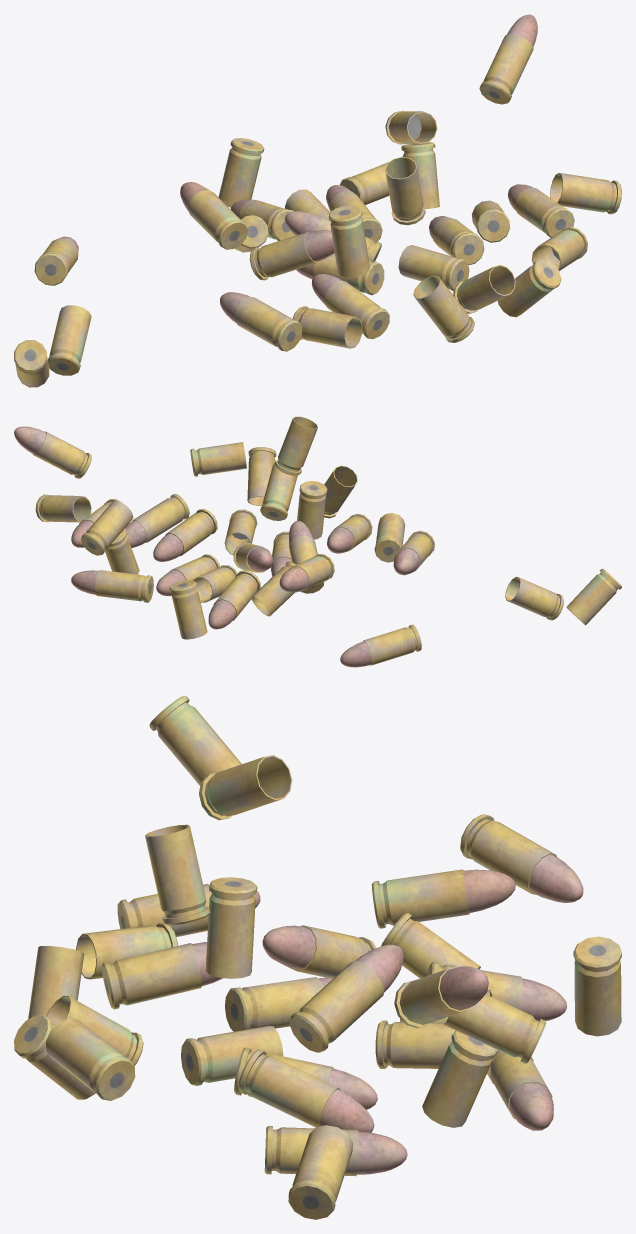
Rendered from item-pistolAmmo.glb.
3 renders of one model, top to bottom at view 1: azimuth 30°, elevation 25°; view 2: azimuth 150°, elevation 25°; view 3: azimuth 270°, elevation 25°, orthographic. The views are drawn at different scales.
Visible parts, largest first — view 1: 9mm_low.011, 9mm_low.007, 9mm_low.008, 9mm_low.000, 9mm_low.009, 9mm_spent_low.010, 9mm_spent_low.012, 9mm_spent_low.008, 9mm_spent_low.006, 9mm_spent_low.005, 9mm_spent_low.003, 9mm_spent_low.007 (+18 smaller); view 2: 9mm_low.011, 9mm_low.002, 9mm_low.003, 9mm_low.012, 9mm_low.013, 9mm_low.005, 9mm_spent_low.003, 9mm_spent_low.005, 9mm_spent_low.006, 9mm_spent_low.001, 9mm_spent_low.013, 9mm_spent_low.009 (+18 smaller); view 3: 9mm_low.000, 9mm_low.004, 9mm_low.012, 9mm_low.002, 9mm_low.009, 9mm_spent_low.010, 9mm_spent_low.003, 9mm_spent_low.005, 9mm_spent_low.013, 9mm_spent_low.012, 9mm_spent_low.015, 9mm_spent_low.006 (+17 smaller).
Part boxes in pixels (box(x1,y1,x2,y2)): 9mm_low.011: box(479, 14, 537, 104); 9mm_low.007: box(249, 230, 334, 280); 9mm_low.008: box(220, 292, 301, 351); 9mm_low.000: box(180, 182, 248, 249); 9mm_low.009: box(311, 274, 389, 339); 9mm_spent_low.010: box(328, 205, 369, 277); 9mm_spent_low.012: box(550, 173, 621, 214); 9mm_spent_low.008: box(413, 275, 474, 342); 9mm_spent_low.006: box(48, 305, 91, 375); 9mm_spent_low.005: box(218, 138, 264, 207); 9mm_spent_low.003: box(385, 157, 425, 225); 9mm_spent_low.007: box(292, 306, 362, 348); 9mm_low.011: box(14, 426, 91, 478); 9mm_low.002: box(340, 624, 421, 667); 9mm_low.003: box(71, 570, 153, 602); 9mm_low.012: box(125, 494, 189, 547); 9mm_low.013: box(153, 508, 217, 561); 9mm_low.005: box(208, 570, 260, 629); 9mm_spent_low.003: box(275, 416, 317, 475); 9mm_spent_low.005: box(169, 580, 207, 639); 9mm_spent_low.006: box(505, 576, 563, 620); 9mm_spent_low.001: box(81, 500, 133, 555); 9mm_spent_low.013: box(190, 442, 246, 476); 9mm_spent_low.009: box(566, 568, 621, 625); 9mm_low.000: box(371, 869, 515, 928); 9mm_low.004: box(289, 944, 403, 1052); 9mm_low.012: box(238, 1049, 374, 1132); 9mm_low.002: box(460, 814, 583, 902); 9mm_low.009: box(101, 942, 223, 1009); 9mm_spent_low.010: box(205, 877, 257, 978); 9mm_spent_low.003: box(145, 824, 210, 925); 9mm_spent_low.005: box(573, 936, 621, 1036); 9mm_spent_low.013: box(46, 1018, 135, 1100); 9mm_spent_low.012: box(288, 1125, 352, 1219); 9mm_spent_low.015: box(422, 1030, 497, 1127); 9mm_spent_low.006: box(199, 755, 292, 820).
Bounding box in the file's own units: 0.2249 × 0.0532 × 0.1269.
Materials: 1 (1 with a texture image).
